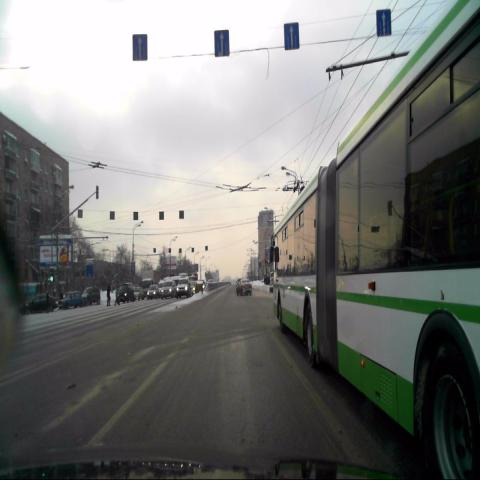5_15_2: (214, 30, 228, 57)
